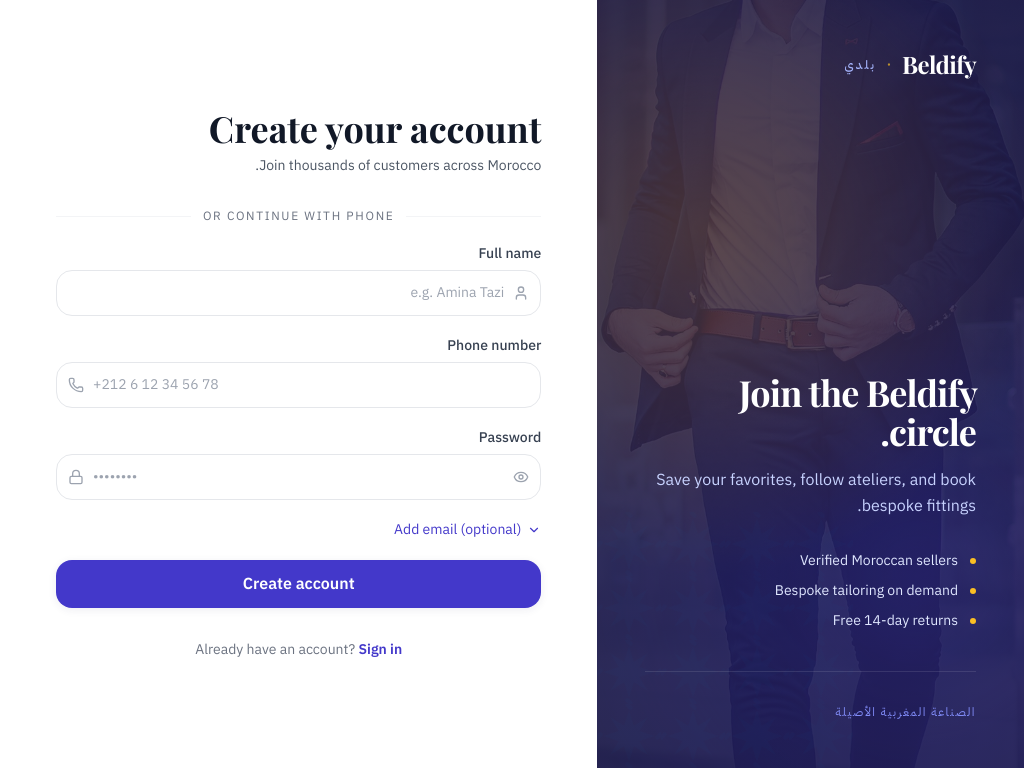
Test: RegisterPage (phone-first) — client-side validation › reveals an email input after clicking "Add email" toggle
This screenshot has width=1024, height=768.
Click the button "Add email (optional)": (468,530) [394,520,541,540]
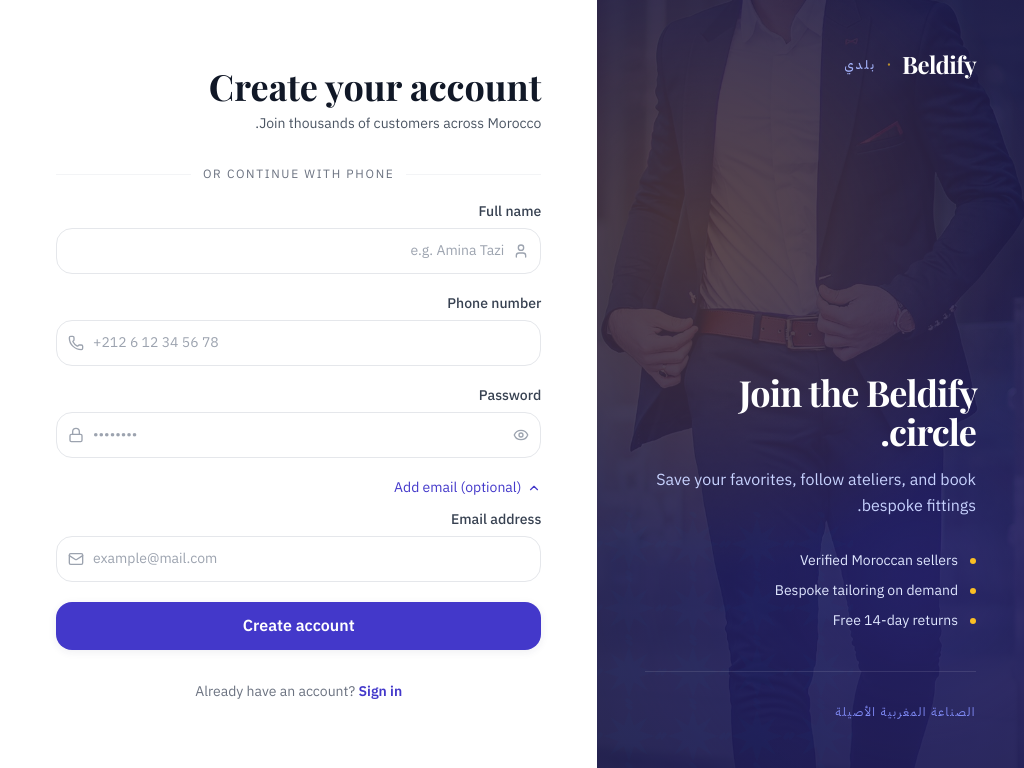
Result: the field labelled "Email address" is shown at [56,536,541,582]
